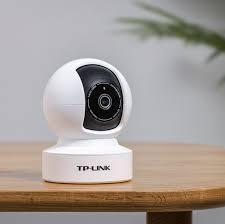maru: (38, 52, 133, 140)
